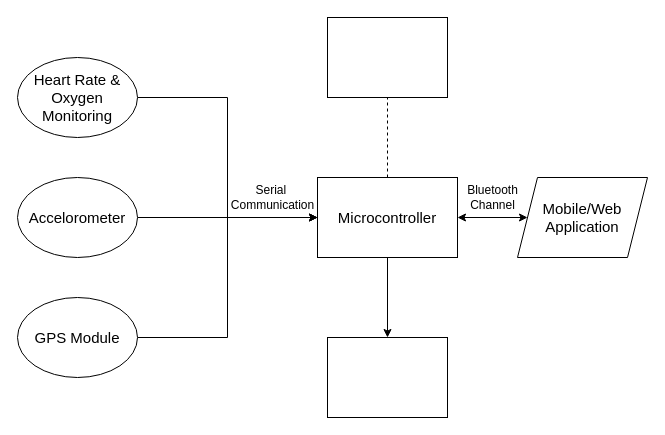
Image size: 665x435. Some labels were removed from this diagram. The centre of each missing label's shape, as x and y in pixels:
"LEDs/Alarm/LCD Indicators" belongs at [387,377].
"Power Source (Battery/Solar Energy)" belongs at [387,57].
